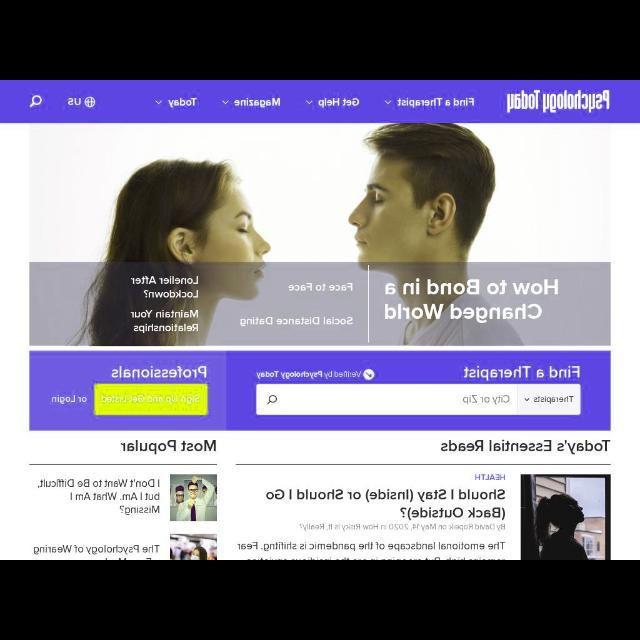backgroundimage: (30, 122, 608, 346)
icon: (28, 93, 42, 109), (82, 96, 96, 108), (362, 368, 376, 380), (266, 394, 278, 404), (305, 100, 313, 106), (154, 100, 162, 104), (222, 100, 230, 104), (524, 397, 530, 401)
image: (520, 473, 612, 559), (505, 90, 611, 114), (170, 473, 218, 522), (170, 531, 218, 559), (384, 100, 392, 104)
input: (256, 384, 518, 416)
spinner: (518, 384, 580, 414), (382, 94, 476, 112), (220, 94, 284, 110), (304, 96, 362, 110), (152, 95, 202, 111)
text: (265, 486, 507, 520), (382, 278, 560, 322), (36, 476, 162, 518), (235, 538, 508, 554), (441, 438, 611, 454), (30, 542, 162, 558), (298, 522, 508, 532), (462, 365, 580, 381), (120, 438, 218, 456), (130, 276, 200, 300), (127, 310, 197, 334), (110, 364, 208, 381), (238, 316, 354, 328), (100, 393, 200, 405), (256, 370, 362, 380), (286, 280, 352, 294), (397, 98, 475, 109), (233, 98, 280, 109), (461, 394, 511, 404), (318, 98, 359, 109), (166, 97, 198, 109), (533, 396, 573, 404), (52, 396, 88, 404), (474, 472, 508, 480), (67, 98, 81, 108)
textbutton: (94, 381, 208, 415)
toolbar: (1, 81, 640, 122)
